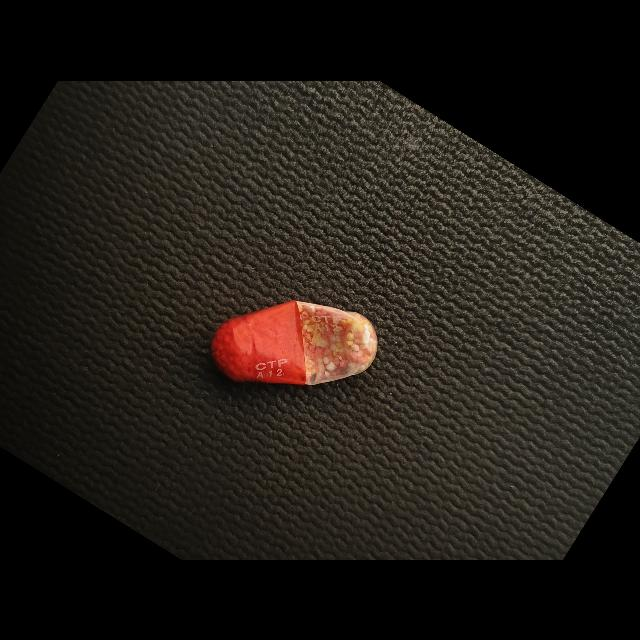Defective Capsule: (211, 299, 378, 385)
